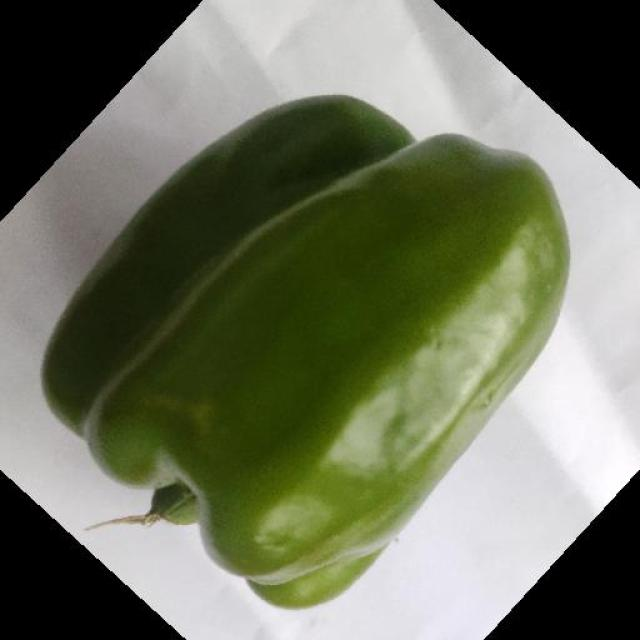Fresh_Capsicum: (52, 71, 558, 582)
